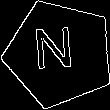N_S: (37, 27, 82, 80)
